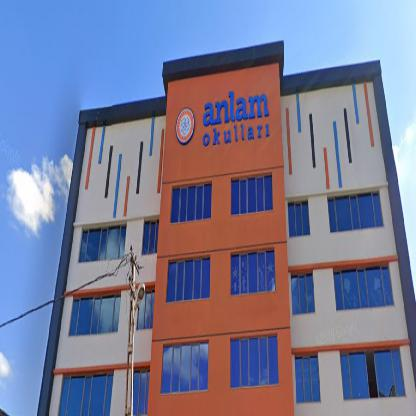window: (340, 347, 406, 397), (230, 332, 278, 387), (333, 265, 393, 308), (161, 340, 208, 393), (58, 371, 113, 415), (327, 190, 383, 230), (68, 293, 121, 334), (231, 247, 275, 294), (166, 256, 210, 302), (230, 171, 272, 215), (78, 224, 127, 260), (171, 181, 211, 223), (295, 354, 321, 403), (291, 274, 315, 312), (288, 199, 309, 235), (133, 370, 149, 416), (136, 290, 154, 329), (143, 220, 158, 252)
